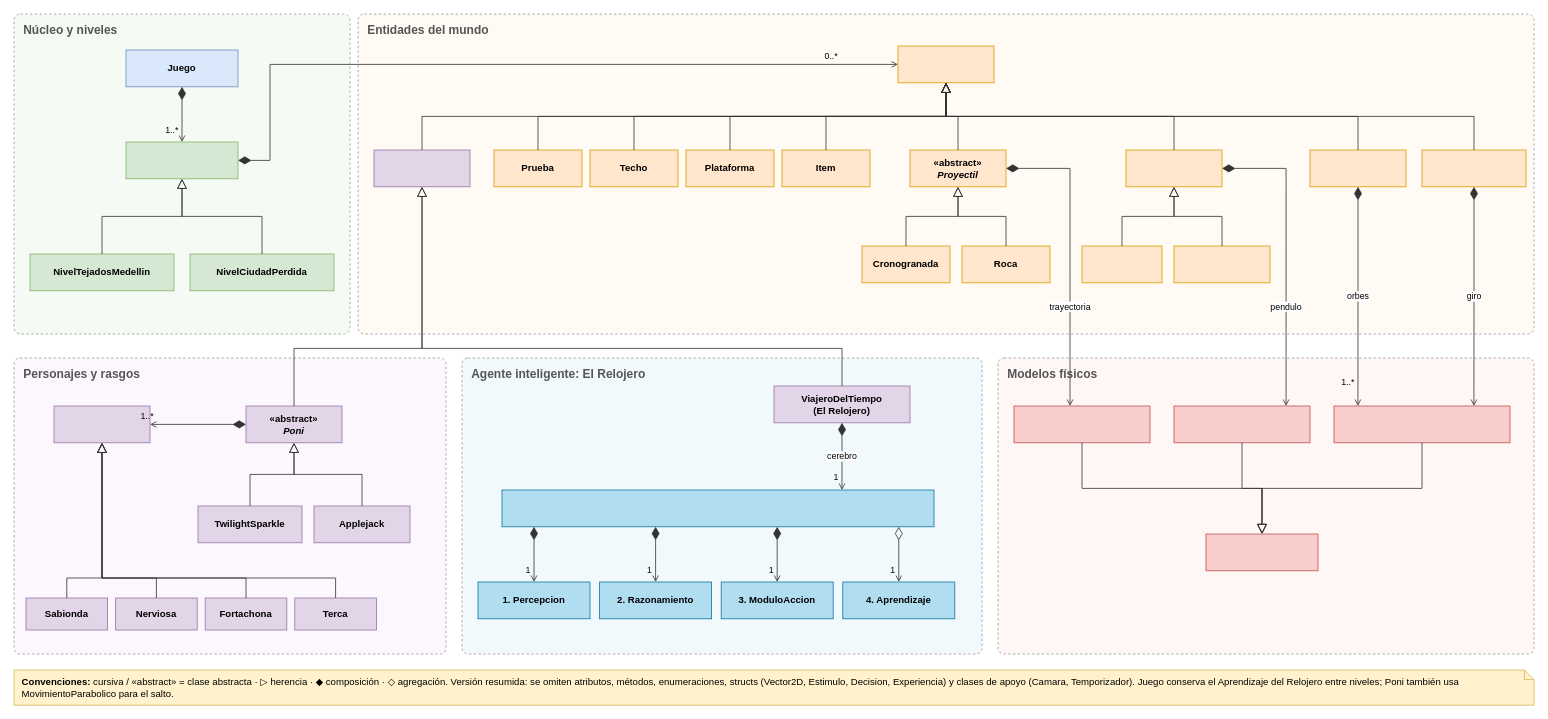
The diagram is 1548 pixels wide and 719 high, and some of its shapes have lost their labels. The centre of each missing label's shape, as x and y in pixels:
AgenteInteligente: pixel 717 508
AnomaliaTemporal: pixel 1473 168
Liana: pixel 1121 264
MovimientoCircular: pixel 1421 424
MovimientoParabolico: pixel 1081 424
MovimientoPendular: pixel 1241 424
Portal: pixel 1357 168
TrampaColgante: pixel 1221 264
«abstract» Entidad: pixel 945 64
«abstract» ModeloFisico: pixel 1261 552
«abstract» Nivel: pixel 181 160
«abstract» ObjetoPendular: pixel 1173 168
«abstract» Personaje: pixel 421 168
«abstract» Rasgo: pixel 101 424
